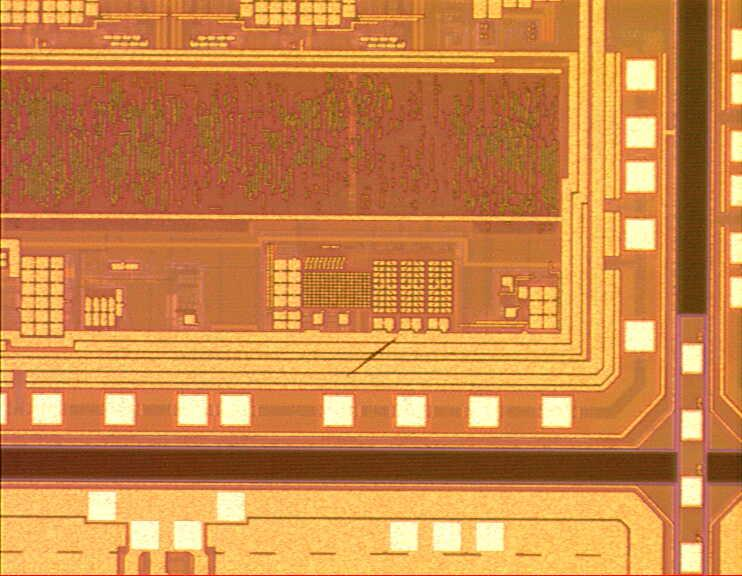SCRATCH: (335, 322, 414, 391)
